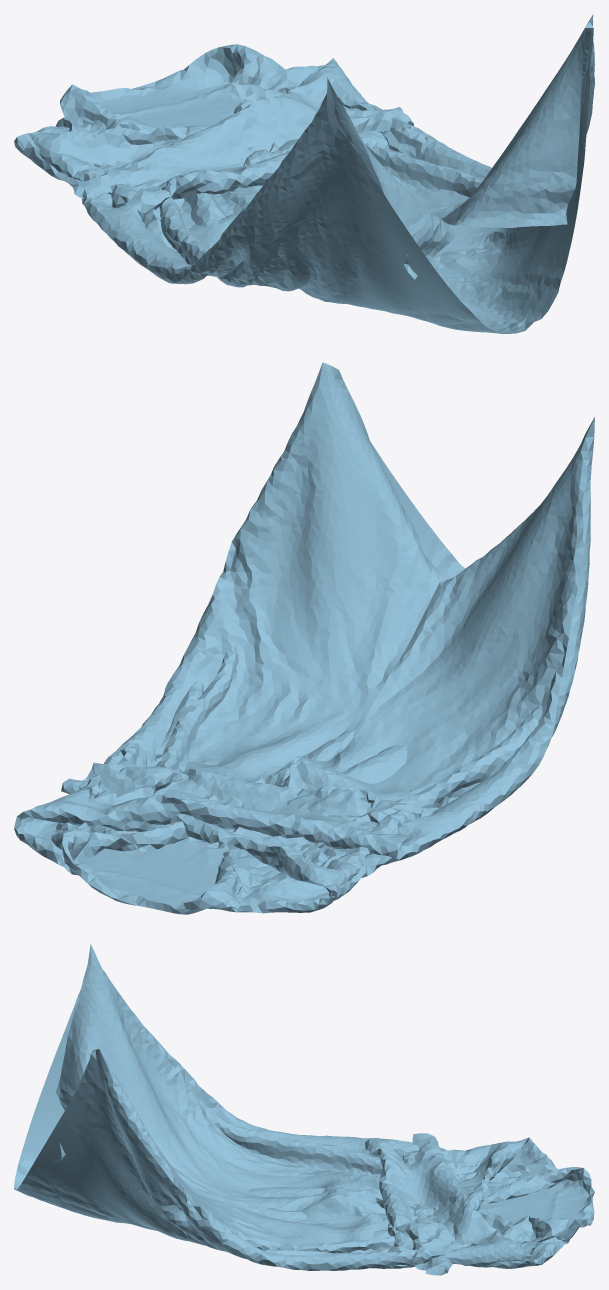
File: frame_05.glb
3 renders of one model, top to bottom at view 1: azimuth 30°, elevation 25°; view 2: azimuth 150°, elevation 25°; view 3: azimuth 270°, elevation 25°, orthographic. The views are drawn at different scales.
Parts seen in each view (by area): view 1: frame_05.obj; view 2: frame_05.obj; view 3: frame_05.obj.
Part boxes in pixels (bbox=[...]): frame_05.obj: bbox=[14, 14, 594, 333]; frame_05.obj: bbox=[14, 362, 594, 914]; frame_05.obj: bbox=[14, 944, 594, 1275].
Bounding box in the file's own units: 0.9229 × 0.6991 × 1.67.
